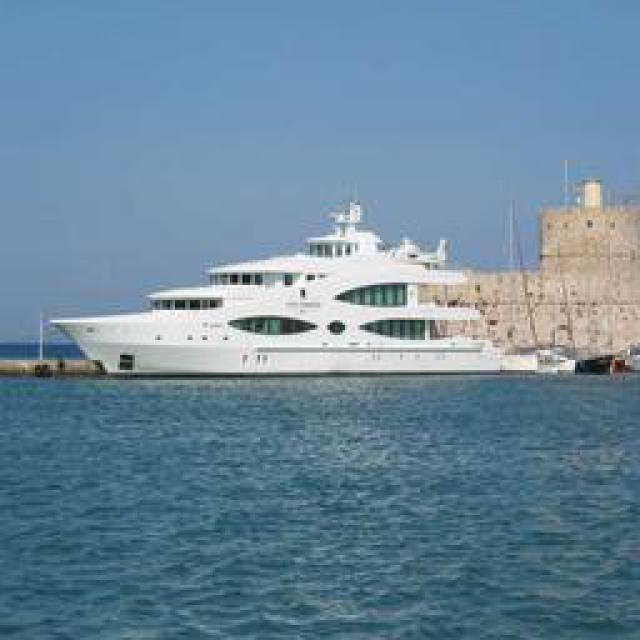Ship: (45, 184, 603, 387)
